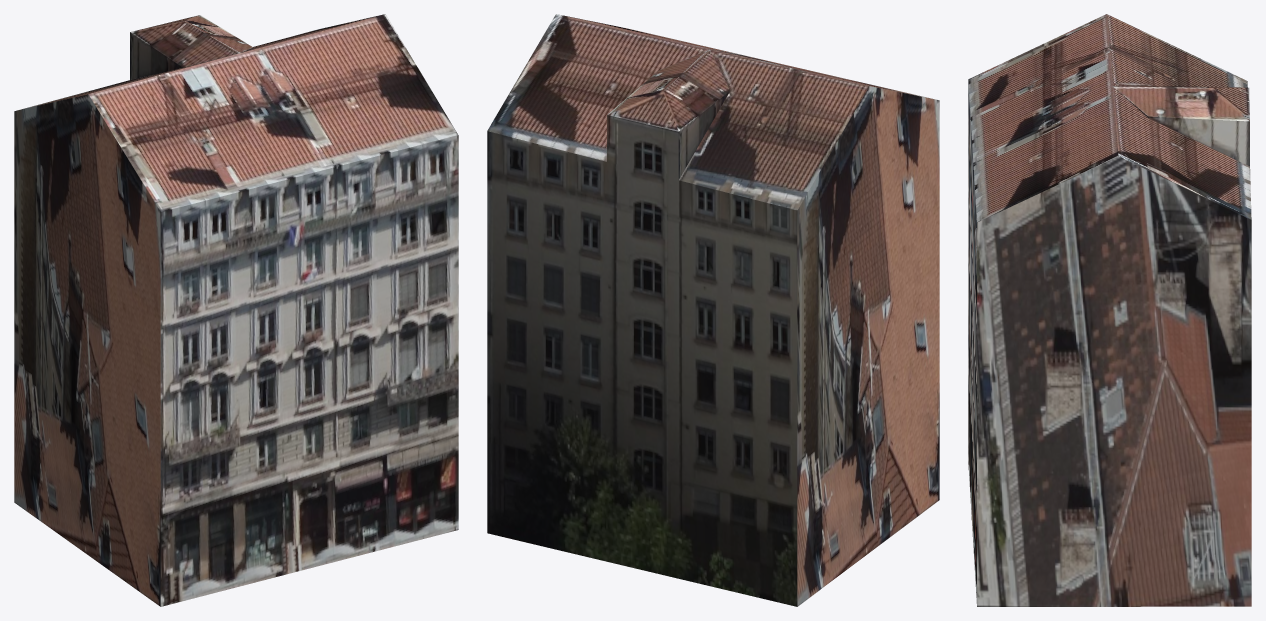
3 views of the same model, side by side, from view 1: azimuth 30°, elevation 25°; view 2: azimuth 150°, elevation 25°; view 3: azimuth 270°, elevation 25° (orthographic). The views are drawn at different scales.
Visible parts, largest first — view 1: Z_UP; view 2: Z_UP; view 3: Z_UP.
Boxes of the visible parts, left/top/right/bottom form: Z_UP: left=14, top=14, right=458, bottom=606; Z_UP: left=487, top=14, right=939, bottom=606; Z_UP: left=968, top=14, right=1251, bottom=606.
Bounding box in the file's own units: 18.89 × 27.38 × 15.6.
2 materials, 1 textured.
